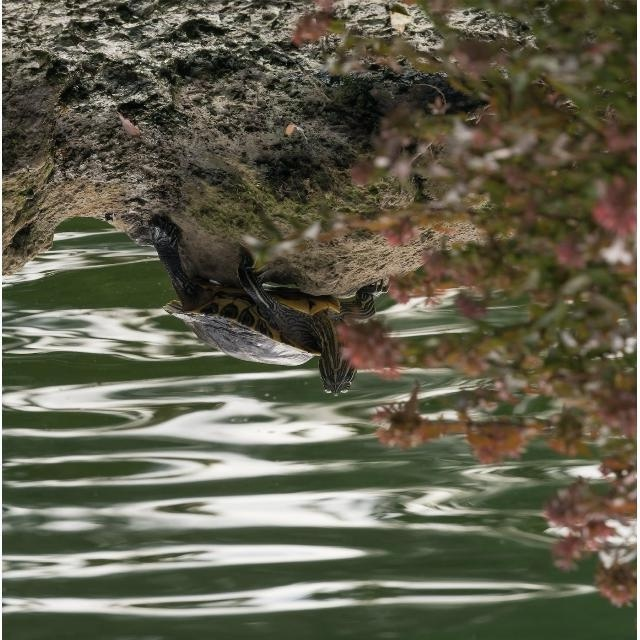turtle: (147, 213, 391, 397)
